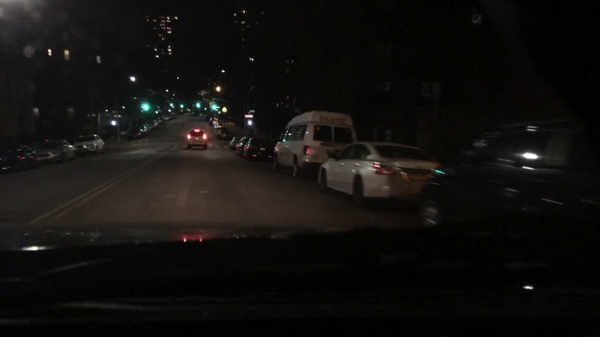car: (416, 115, 597, 232), (313, 139, 443, 209), (269, 108, 359, 179), (32, 139, 78, 167), (0, 144, 37, 172), (242, 136, 277, 164), (74, 133, 107, 156), (235, 135, 250, 157), (125, 126, 144, 140), (226, 136, 242, 151), (214, 127, 228, 140), (138, 123, 152, 135), (161, 114, 173, 122), (151, 119, 158, 130), (215, 121, 222, 130)
traffic light: (140, 101, 153, 113), (194, 102, 202, 110), (209, 103, 217, 111), (179, 103, 185, 110), (168, 102, 175, 108)
traffic sign: (221, 106, 228, 113), (243, 115, 255, 119), (249, 110, 256, 114)
